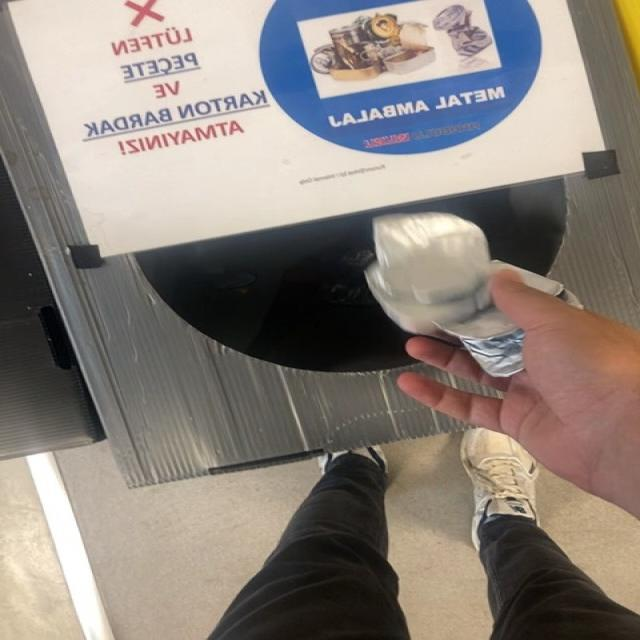Bin: (1, 0, 639, 486)
Metal: (365, 212, 582, 378)
